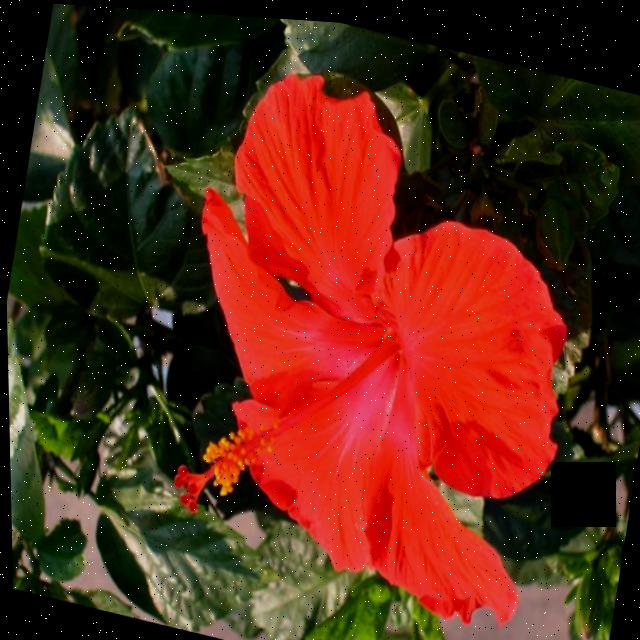hibiscus: (52, 3, 631, 640)
